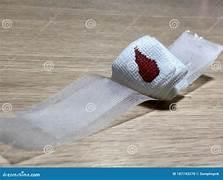Bandage: (0, 32, 222, 149)
cotton: (112, 36, 187, 99), (169, 31, 222, 92)
